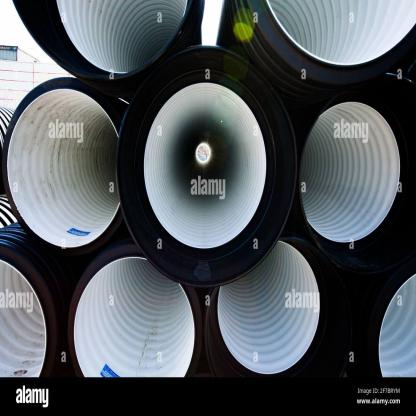PVC: (0, 0, 416, 377)
